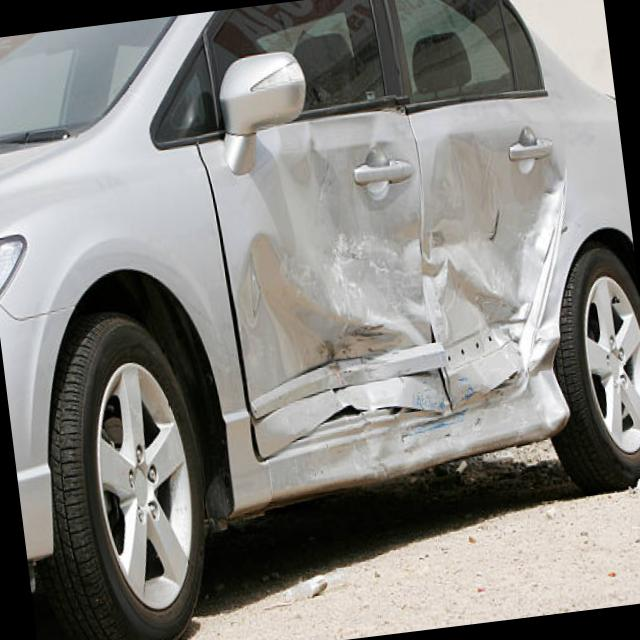Crack: (290, 325, 517, 409)
Dent: (231, 113, 564, 455), (261, 378, 551, 503), (533, 335, 569, 434)
Scratch: (323, 231, 386, 325), (310, 326, 395, 369), (398, 412, 464, 449)
